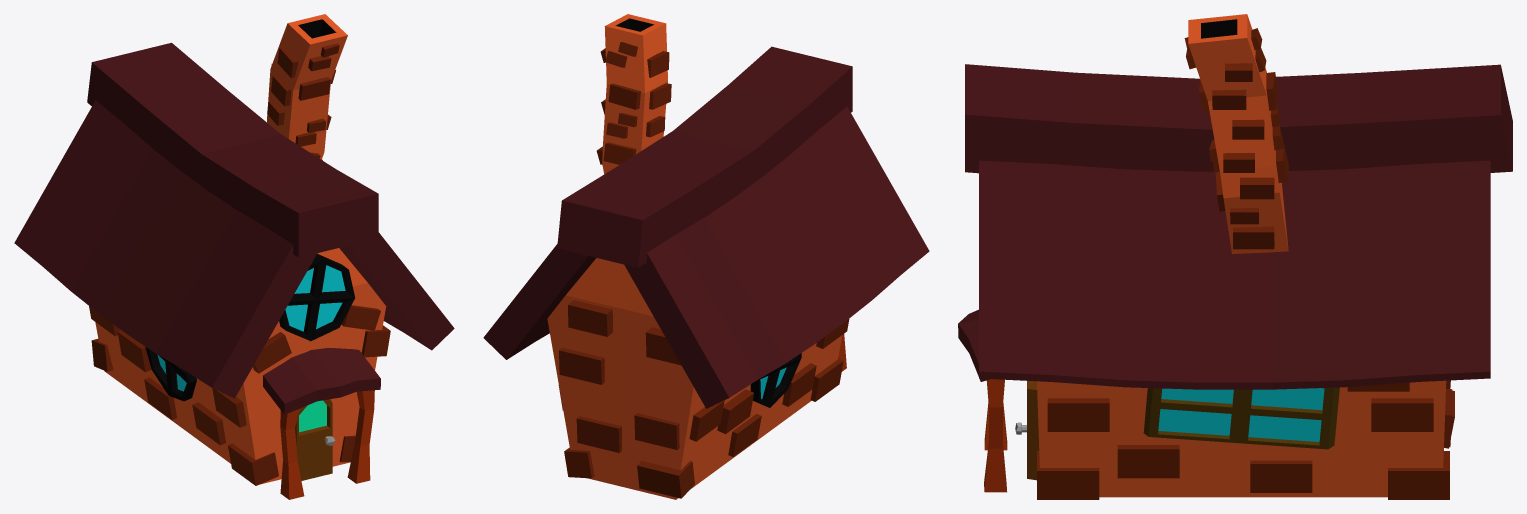
Rendered from Casinhafofa.fbx.
The picture shows the model from 3 angles, left to right: view 1: azimuth 30°, elevation 25°; view 2: azimuth 150°, elevation 25°; view 3: azimuth 270°, elevation 25°; orthographic projection. The views are drawn at different scales.
Visible parts, largest first — view 1: Casinhafofa; view 2: Casinhafofa; view 3: Casinhafofa.
Part boxes in pixels (x1,y1,x2,y2): Casinhafofa: (14,14,454,499); Casinhafofa: (483,14,929,499); Casinhafofa: (958,14,1512,499).
Size of the model in its own units: 614 by 915 by 938.
